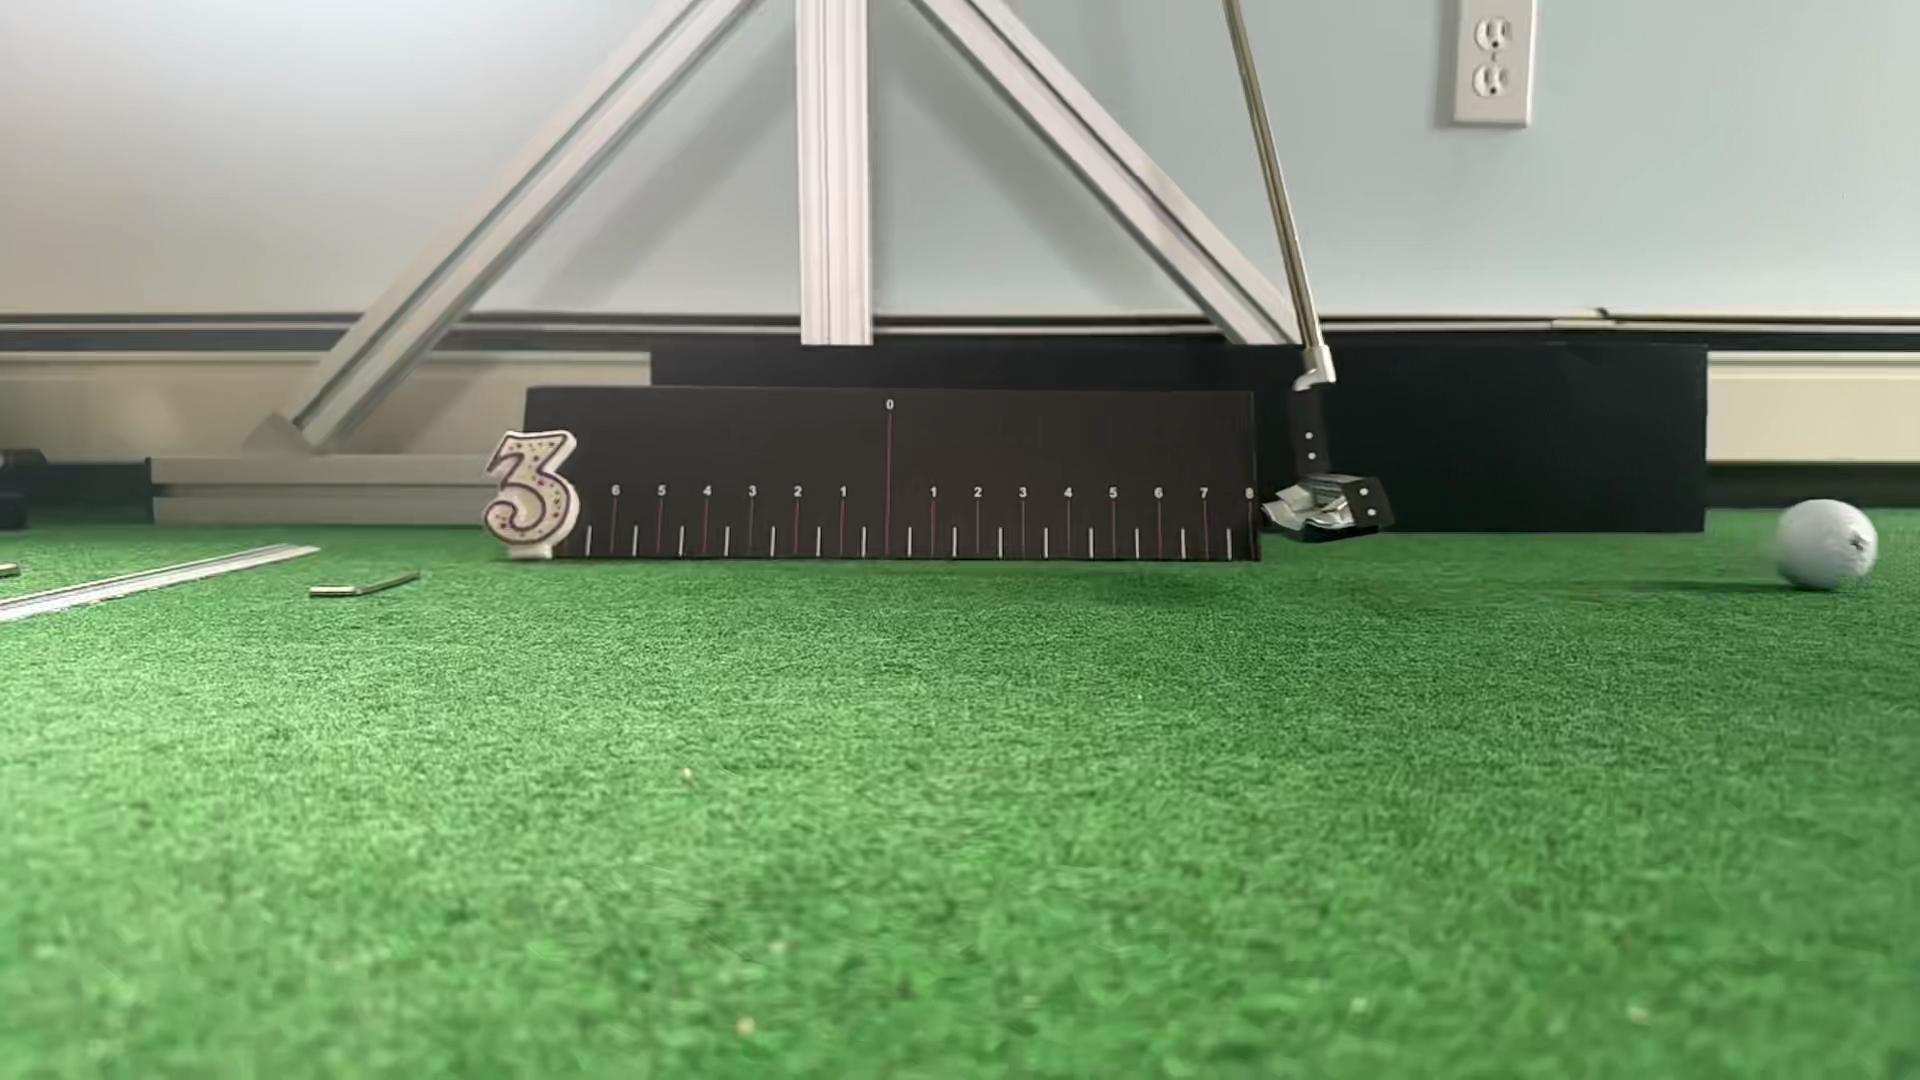golfball: (1770, 499, 1878, 590)
